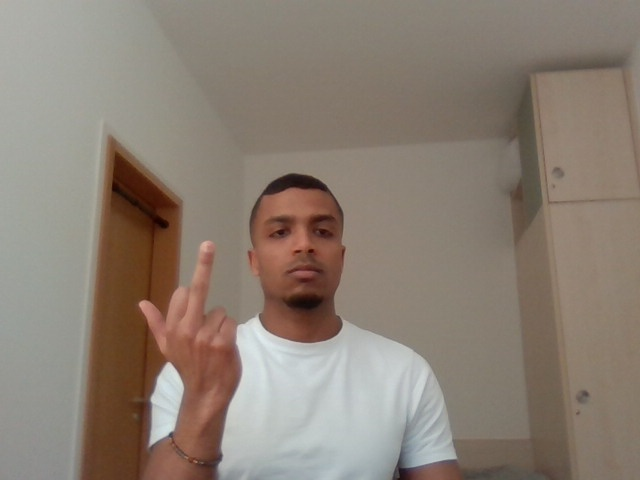fuckyou: (125, 222, 286, 430)
